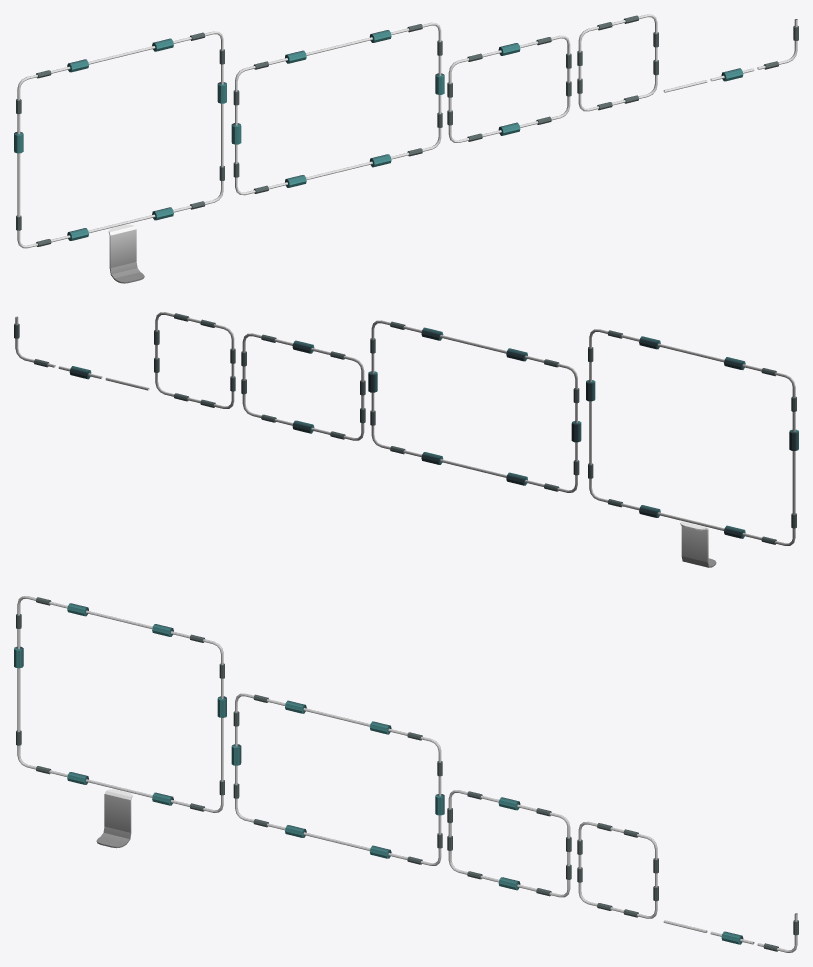
Rendered from MarcosTuto01.fbx.
3 renders of one model, top to bottom at view 1: azimuth 30°, elevation 25°; view 2: azimuth 150°, elevation 25°; view 3: azimuth 330°, elevation 25°, orthographic.
Visible parts, largest first — view 1: Shape001; view 2: Shape001; view 3: Shape001.
Boxes of the visible parts, x1,y1,x2,y2 form: Shape001: (108, 224, 144, 283); Shape001: (680, 521, 716, 567); Shape001: (96, 789, 132, 848).
Size of the model in its own units: 364 by 97.72 by 13.21.
1 material, 1 textured.
